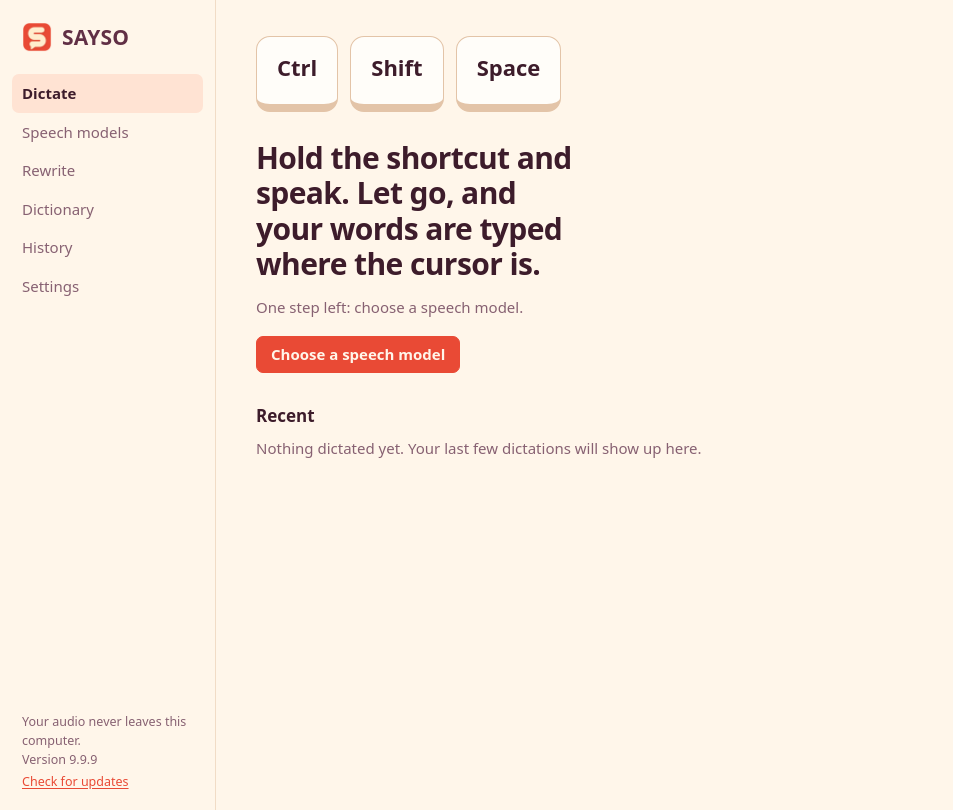
Test: first run › shows the shortcut and asks for a model
expect the navigation bar is shown: met, box [0, 0, 216, 809]
expect the text "Ctrl" is shown: met, box [256, 36, 338, 112]
Click the button "Choose a speech model" at point(358, 354), box [256, 336, 460, 373]
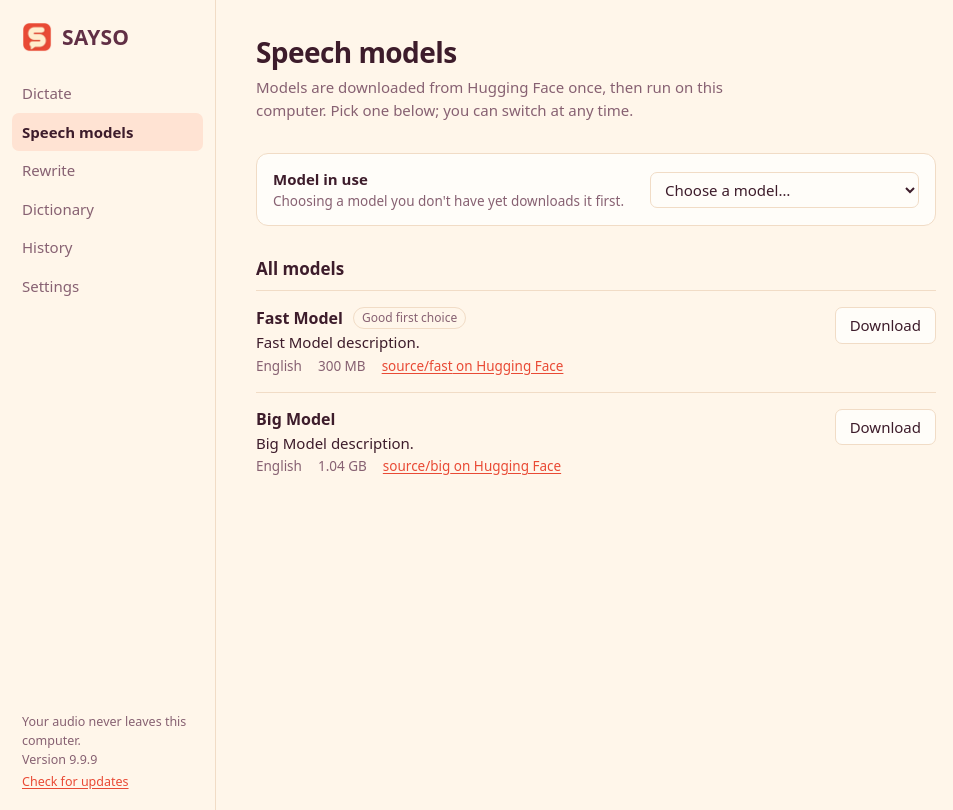
expect the heading "Speech models" is shown: met, box [256, 33, 457, 71]
